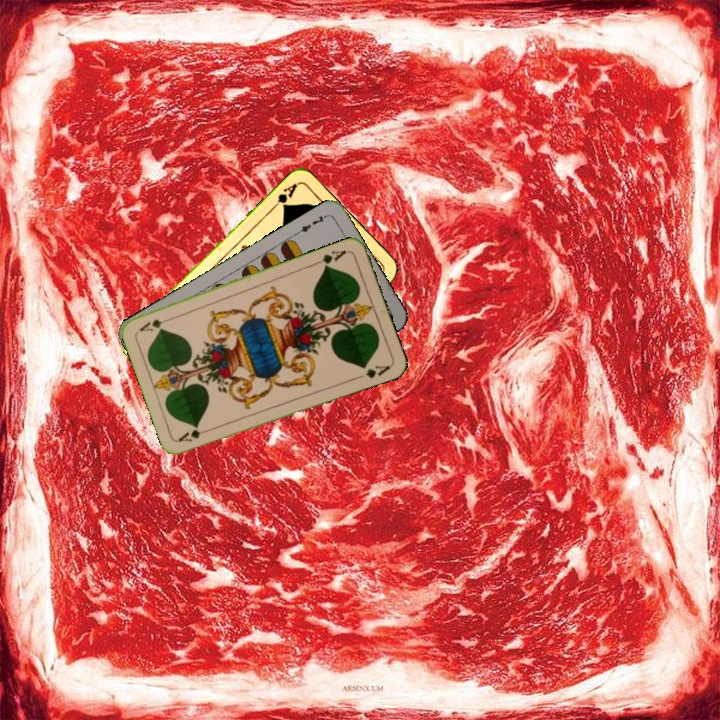E7: (293, 211, 330, 236)
GA: (268, 179, 300, 212), (311, 246, 350, 271), (174, 424, 214, 444)
